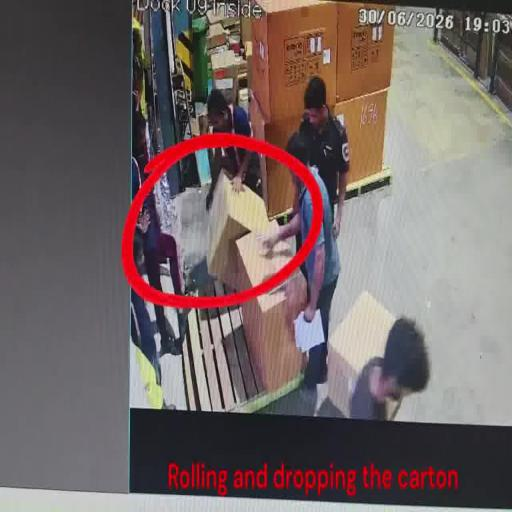carton: (235, 228, 309, 392), (250, 8, 340, 122), (324, 288, 401, 417), (206, 170, 271, 286), (248, 92, 305, 218), (336, 4, 397, 106), (335, 88, 388, 192)
pallet: (174, 297, 309, 416), (258, 166, 393, 230)
person: (262, 140, 340, 391), (285, 76, 351, 241), (131, 110, 186, 302), (129, 205, 180, 410), (348, 314, 431, 423), (206, 88, 264, 209)
